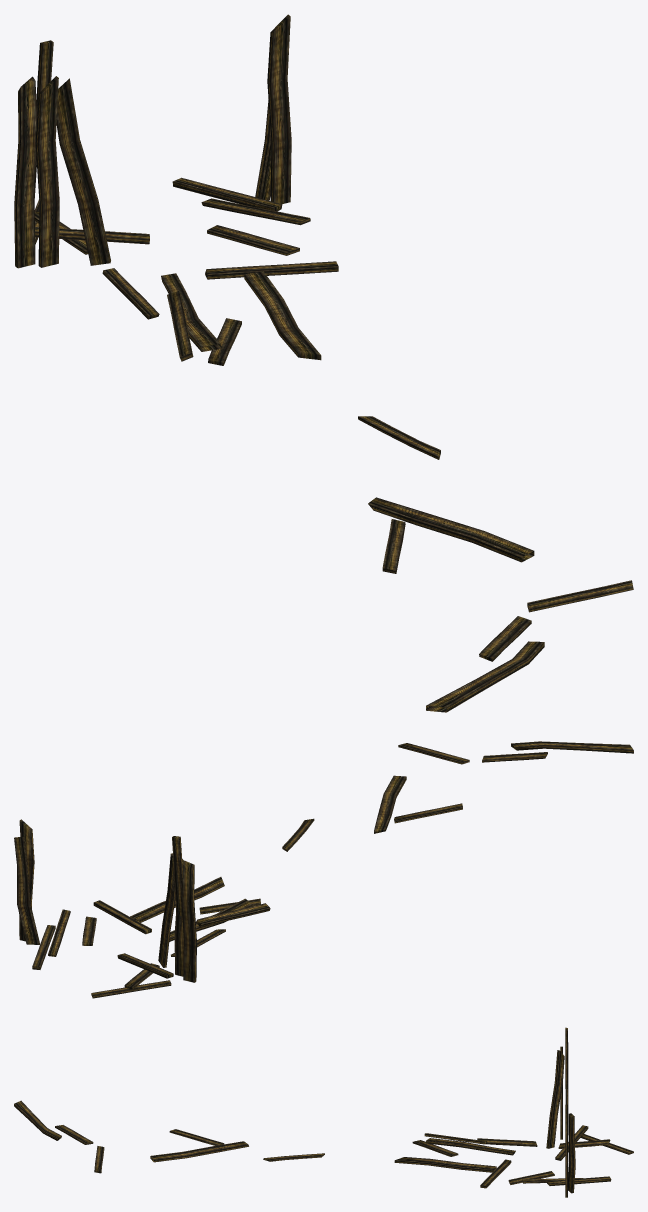
The model's file is CB_EXPLODING_WALL_ENDSTATE.obj.
3 renders of one model, top to bottom at view 1: azimuth 30°, elevation 25°; view 2: azimuth 150°, elevation 25°; view 3: azimuth 270°, elevation 25°, orthographic. The views are drawn at different scales.
Parts seen in each view (by area): view 1: CB_explodewall; view 2: CB_explodewall; view 3: CB_explodewall.
Part boxes in pixels (box(x1,y1,x2,y2)): CB_explodewall: box(14, 14, 633, 712); CB_explodewall: box(14, 741, 633, 998); CB_explodewall: box(14, 1027, 633, 1197).
Size of the model in its own units: 1615 by 864 by 4201.
